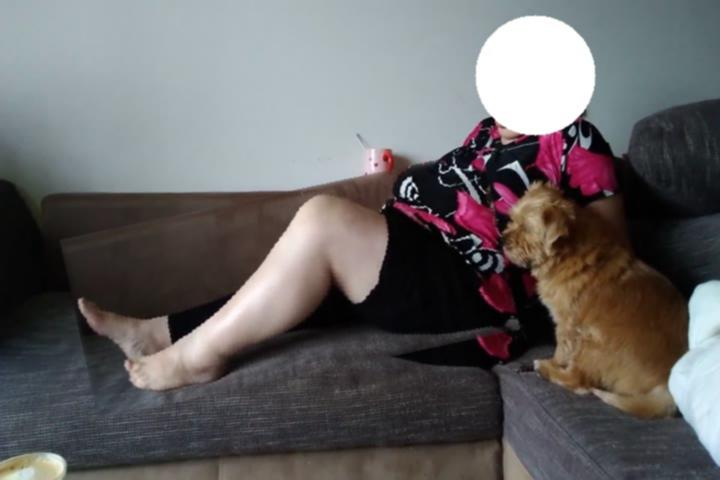lowerbody: (68, 173, 514, 398)
